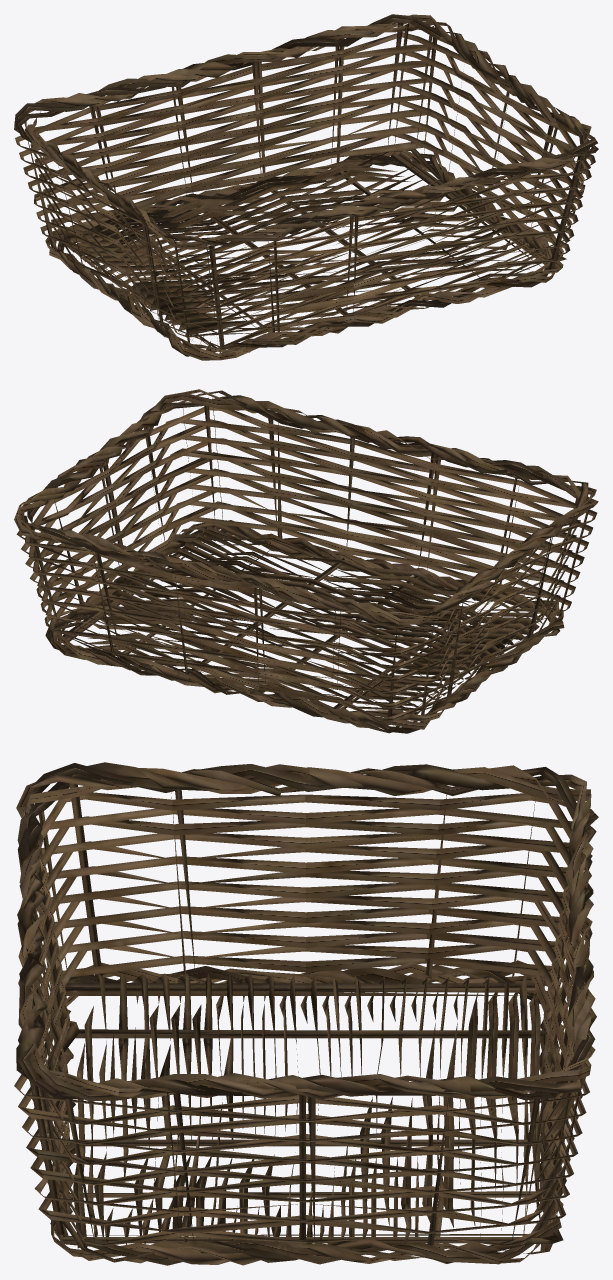
Rendered from wicker_basket_01.light.glb.
The picture shows the model from 3 angles, top to bottom: view 1: azimuth 30°, elevation 25°; view 2: azimuth 150°, elevation 25°; view 3: azimuth 270°, elevation 25°; orthographic projection. The views are drawn at different scales.
Parts seen in each view (by area): view 1: wicker_basket_01; view 2: wicker_basket_01; view 3: wicker_basket_01.
Boxes of the visible parts, x1,y1,x2,y2 form: wicker_basket_01: [14, 14, 598, 360]; wicker_basket_01: [14, 389, 598, 733]; wicker_basket_01: [14, 762, 598, 1265].
Size of the model in its own units: 2 by 0.6128 by 1.53.
Materials: 1 (1 with a texture image).
